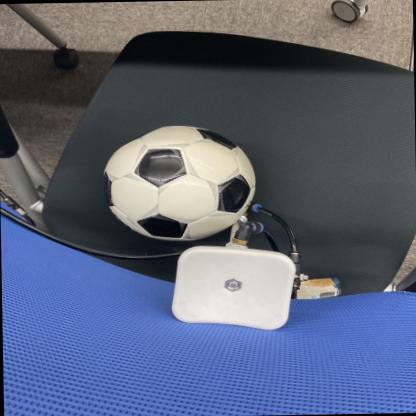ball: (101, 122, 258, 242)
